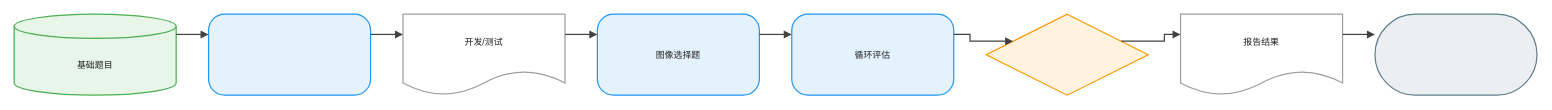
Image size: 1552x110. Some labels were removed from this diagram. Each missing label, with the box of its shape:
V1.1版本: (208, 13, 371, 95)
准确率: (1374, 13, 1537, 95)
选项抽取: (985, 13, 1148, 95)
